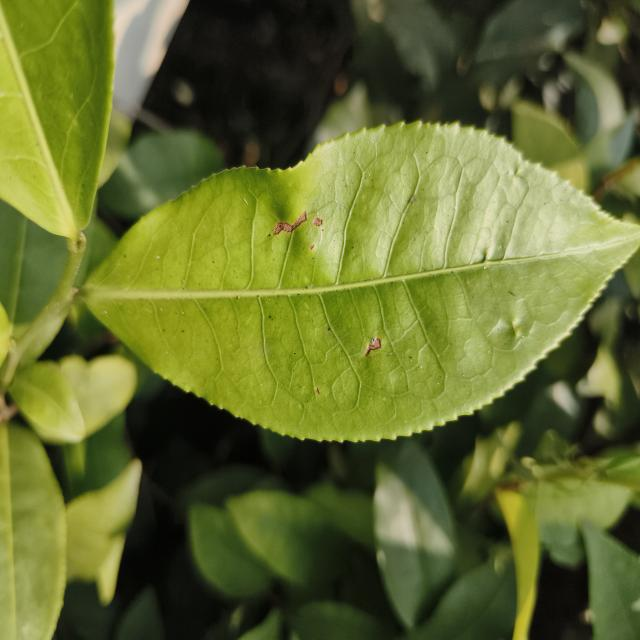Leaf: (78, 122, 640, 440), (0, 0, 114, 239), (374, 441, 457, 628), (62, 459, 142, 640), (0, 424, 66, 640), (226, 490, 346, 585), (99, 129, 224, 220), (403, 554, 516, 640), (0, 199, 68, 335), (189, 504, 273, 597), (581, 521, 640, 640), (512, 101, 588, 190), (496, 489, 539, 640), (10, 361, 85, 444)
